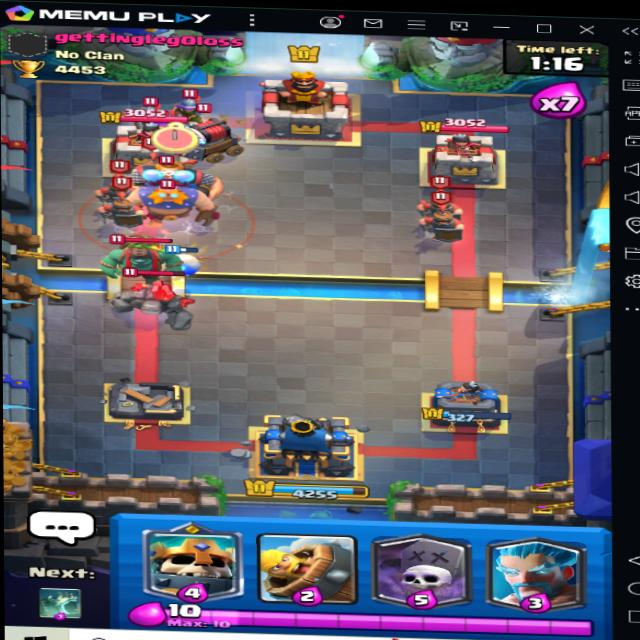electro-giant: (116, 163, 221, 229)
goblin-giant: (102, 229, 194, 285)
golem: (113, 267, 201, 323)
musketeer: (129, 95, 167, 133), (171, 88, 208, 127)
royal-giant: (127, 158, 229, 203)
royal-recruits: (411, 169, 472, 226), (89, 152, 143, 209), (418, 193, 460, 244), (104, 179, 145, 230)
sparky: (168, 105, 240, 164)
